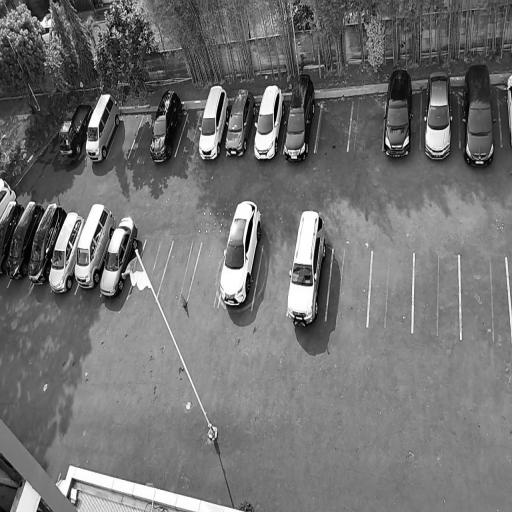Car: (216, 196, 266, 309), (283, 206, 329, 324), (73, 201, 118, 290), (462, 61, 499, 168), (97, 212, 143, 297), (25, 201, 68, 285), (4, 199, 46, 280), (282, 71, 319, 162), (46, 210, 86, 294), (251, 81, 289, 162), (148, 86, 187, 163), (195, 83, 233, 161), (422, 66, 453, 161), (382, 66, 413, 157), (222, 84, 260, 158), (85, 91, 123, 162), (58, 97, 94, 162), (0, 200, 26, 276), (0, 175, 17, 218)
Space Available: (461, 255, 512, 343), (413, 252, 460, 339), (369, 250, 413, 333), (326, 248, 371, 327), (252, 245, 293, 312), (159, 239, 202, 298), (187, 240, 226, 302), (141, 236, 173, 297), (349, 98, 385, 151), (315, 102, 353, 151), (107, 113, 142, 156), (176, 112, 204, 156), (128, 115, 156, 158)
